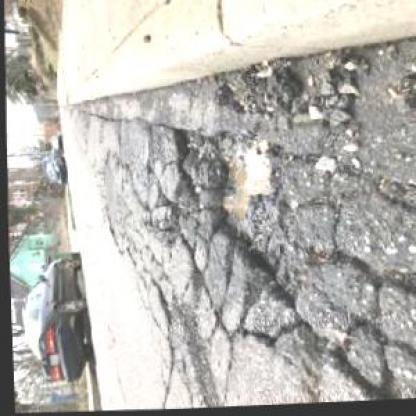pothole: (165, 121, 306, 313)
